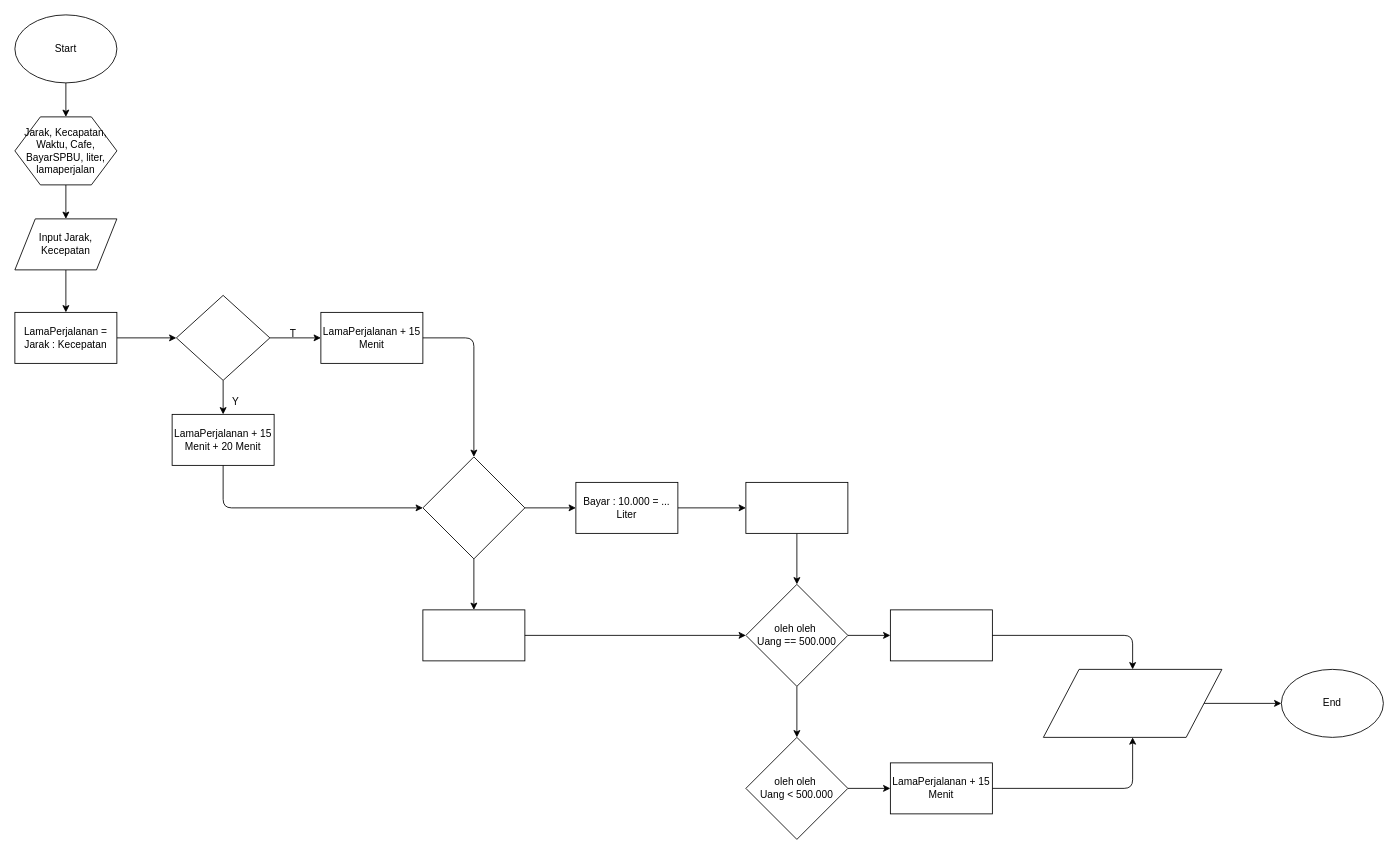
Image size: 1398x854. Some labels were removed from this diagram. The shapes that lost their labels are listed below. From the top down, each one's centre as x and y in pixels, then its label:
point (223, 337): RestArea ada cafe? Y / T
point (473, 507): Stok Bahan Bakar Ada / Tidak ?
point (796, 507): liter : 2 = ... Menit + Lama Perjalan
point (473, 635): LamaPerjalanan + 2 Menit
point (941, 635): LamaPerjalanan + 30 Menit
point (1132, 703): Lama Perjalanan Sofi dari Kota A Ke B = ... Menit
